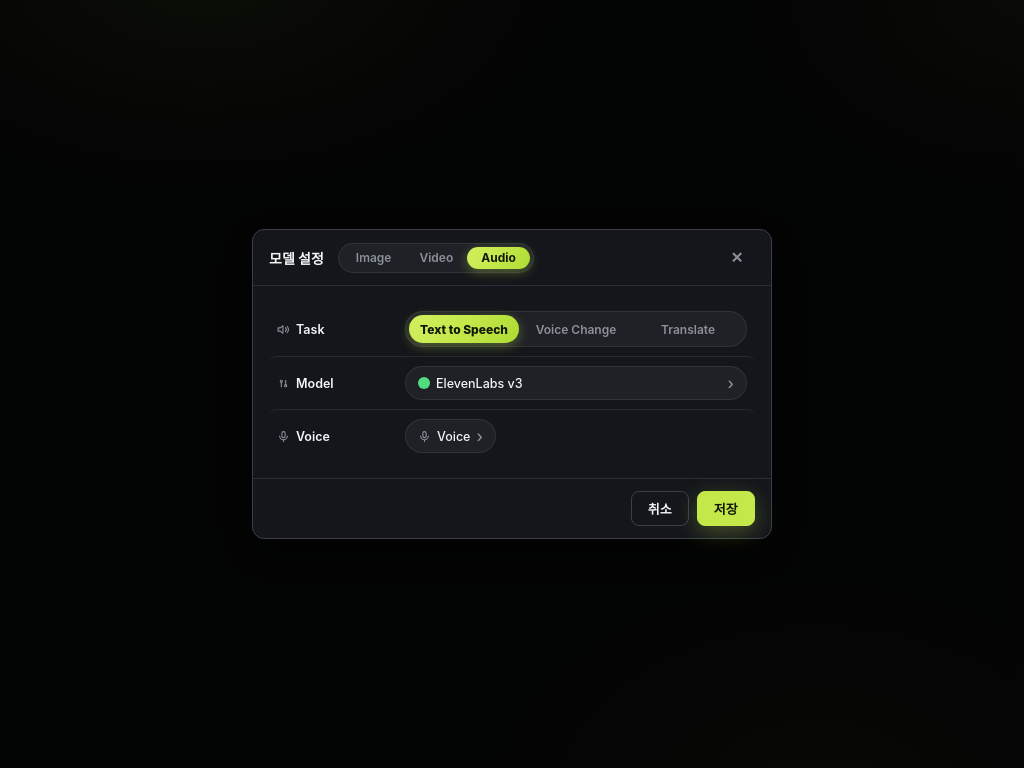
Test: Codex H — 옵션 준비 전 선택·키보드 초점·빈 목록 › Voice 목록을 연 채 키보드로 Voice Change 를 고르면 Esc 한 번에 씬 창이 닫힌다(H 3차 — 숨은 목록이 가로채지 않게)
The width and height of the screenshot is (1024, 768).
Click the button "Voice ›" at (450, 436), box [405, 419, 496, 453]
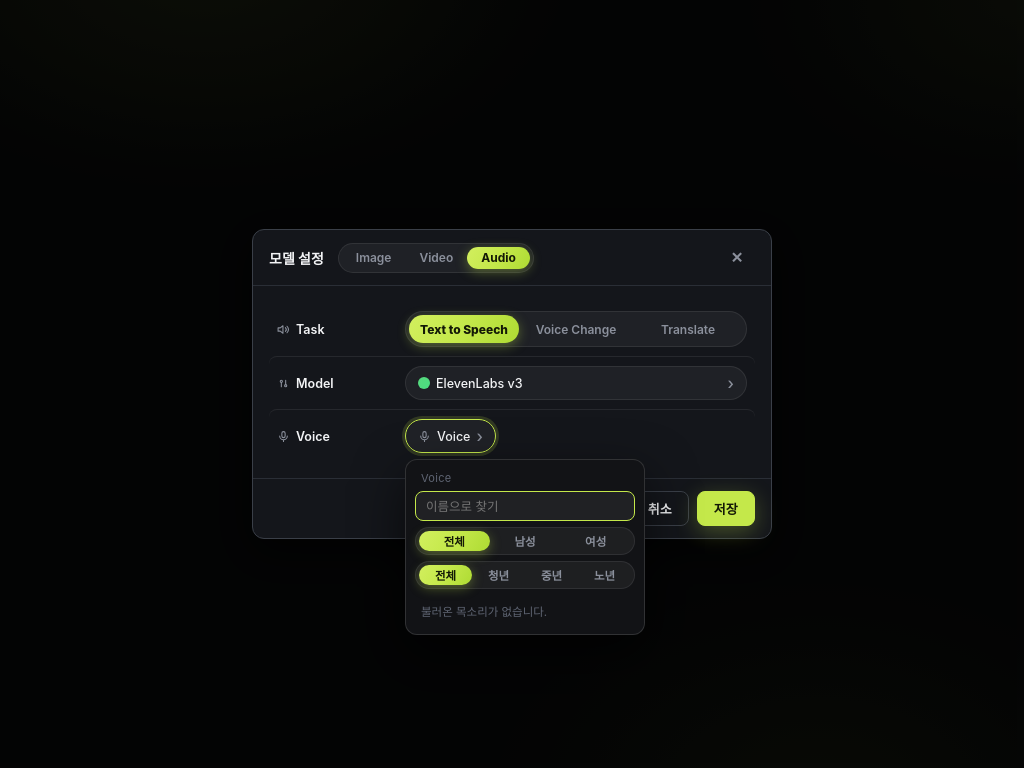
Expected: the element with class "sl-voice-pop" is shown, [405, 459, 645, 635]
Click the button "Voice Change" at (576, 329), box [521, 315, 631, 343]
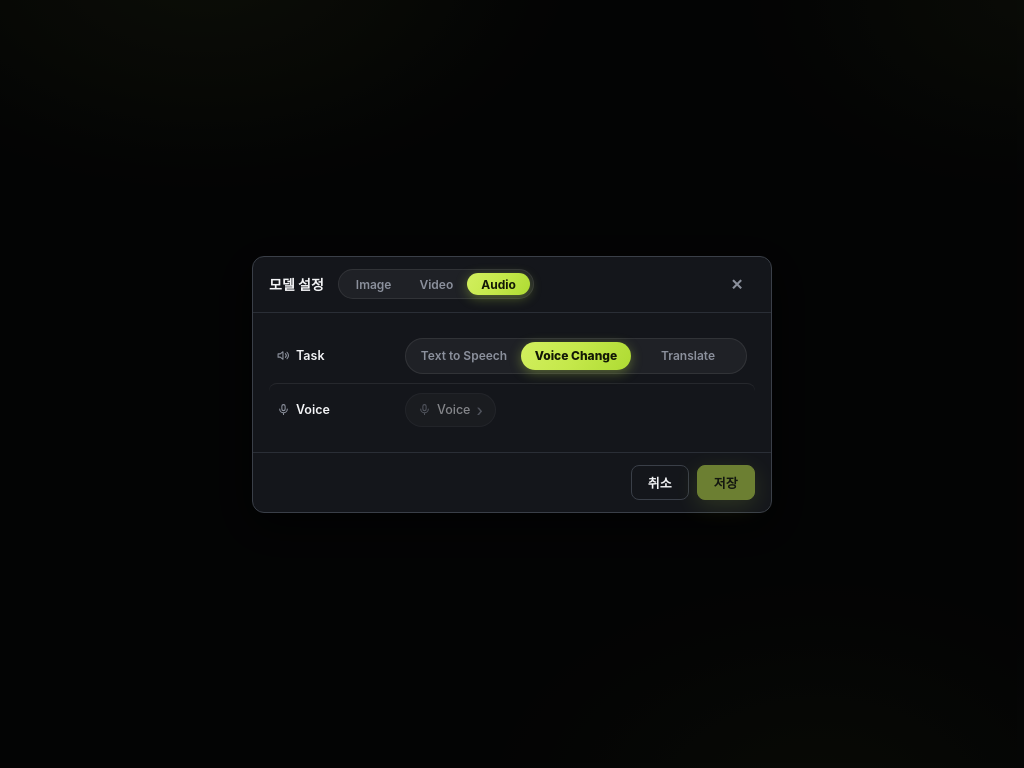
Expected: the element with class "sl-voice-pop" is gone
